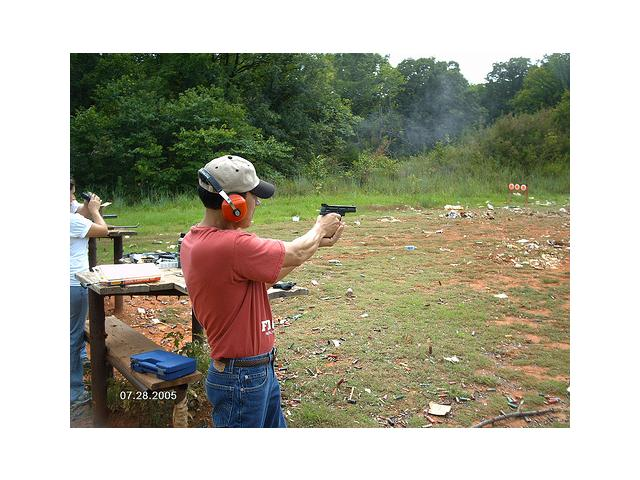pistol: (316, 204, 356, 245)
